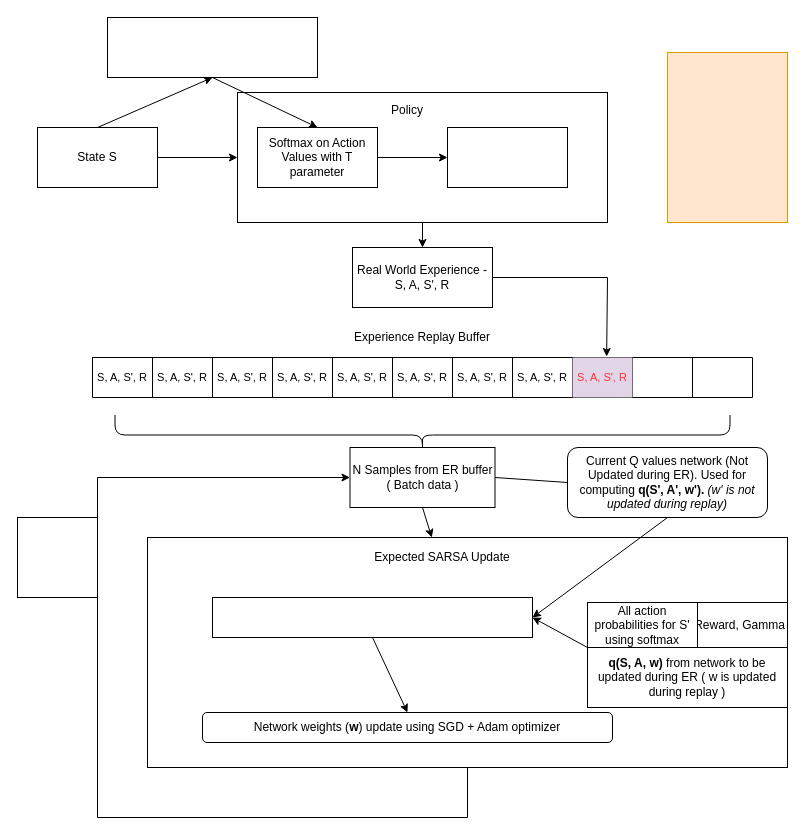
Some shapes in this 805 by 836 pixel diagram are drawn without their labels. The centre of each missing label's shape, as x and y in pixels:
"K Planning Steps" belongs at point 57,557.
"NN used for approximating action values. No. of output nodes = No. of actions" belongs at point 727,137.
"NN with State S as Input. Outputs action values" belongs at point 212,47.
"Selection Action A based on Softmax output probabilites" belongs at point 507,157.
"TD Error for Expected SARSA" belongs at point 372,617.
